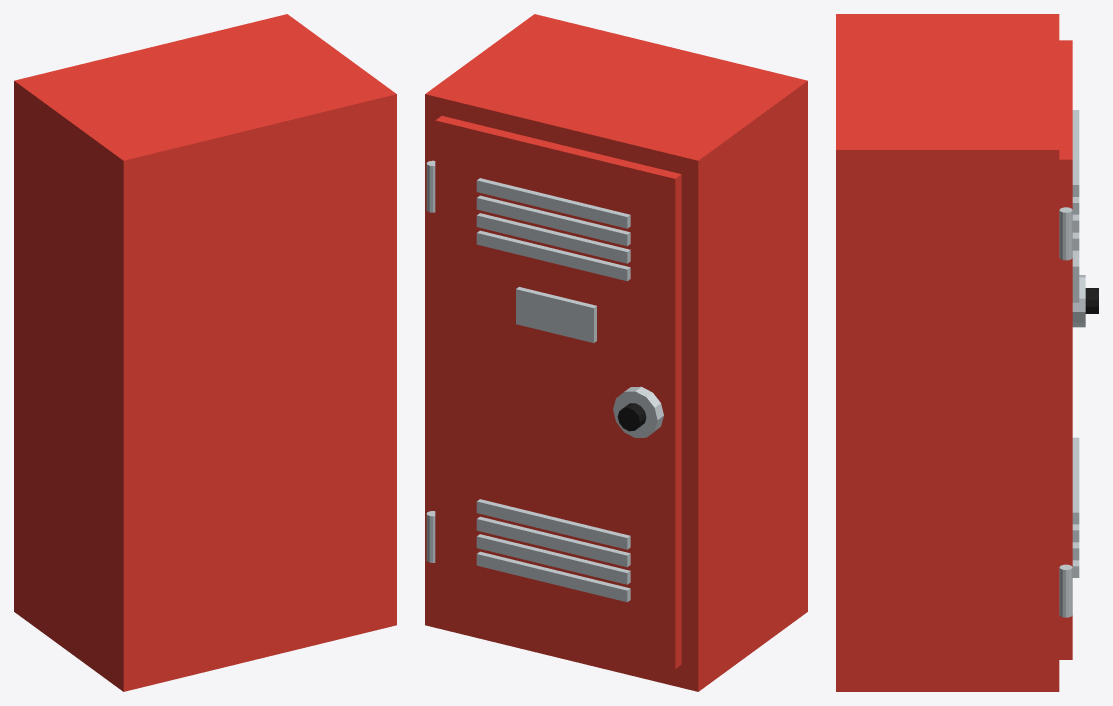
The picture shows the model from 3 angles, left to right: view 1: azimuth 30°, elevation 25°; view 2: azimuth 150°, elevation 25°; view 3: azimuth 270°, elevation 25°; orthographic projection. The views are drawn at different scales.
Visible parts, largest first — view 1: group_710188163; view 2: group_710188163; view 3: group_710188163.
Boxes of the visible parts, x1,y1,x2,y2 form: group_710188163: [14, 14, 396, 691]; group_710188163: [425, 14, 807, 691]; group_710188163: [836, 14, 1098, 691].
Bounding box in the file's own units: 49 × 91 × 40.
